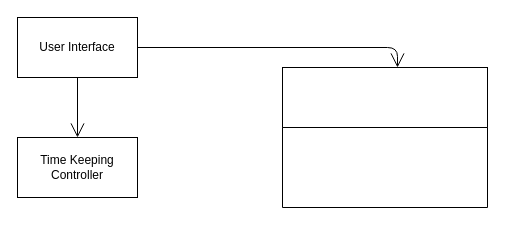
Some shapes in this 505 by 225 pixel diagram are drawn without their labels. The centre of each missing label's shape, as x and y in pixels:
"Start Shift Start Break End shift End Break" goes at (x=385, y=167).
"Time Keeping Event" goes at (x=385, y=97).
